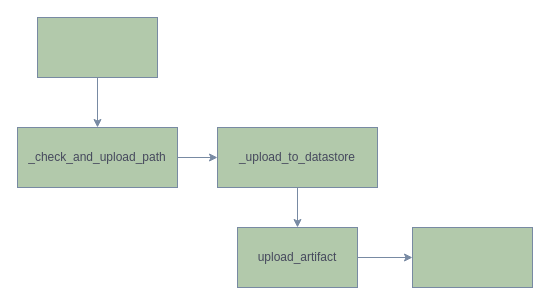
The diagram is 550 pixels wide and 305 high, and some of its shapes have lost their labels. The centre of each missing label's shape, as x and y in pixels:
"Client.upload" goes at point (472, 257).
"create_or_update" goes at point (97, 47).
